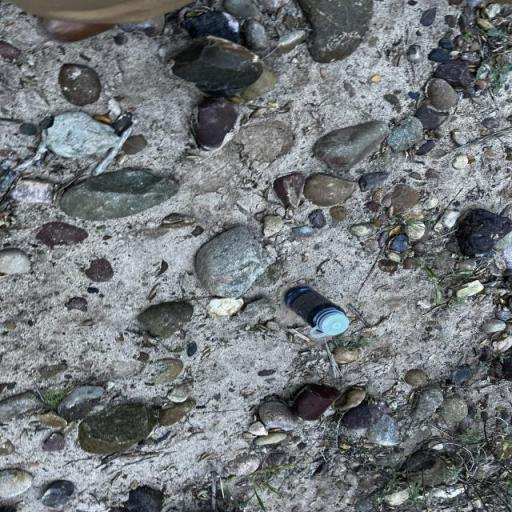bottle: (284, 286, 350, 338)
